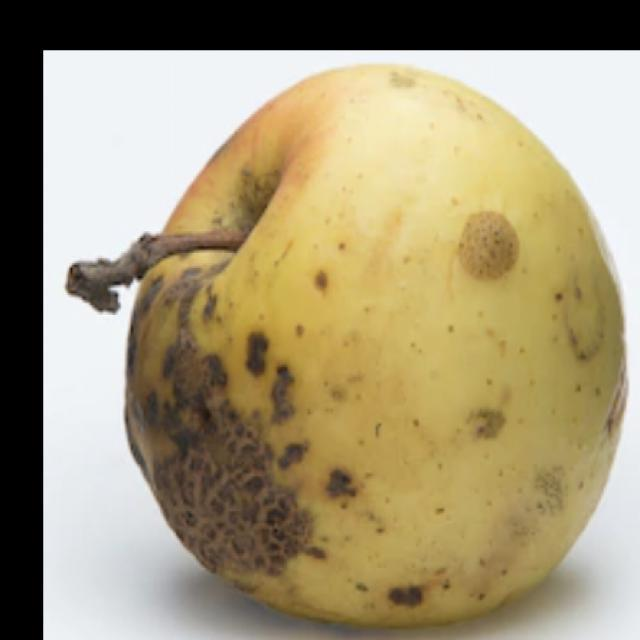Rotten: (113, 73, 635, 640)
